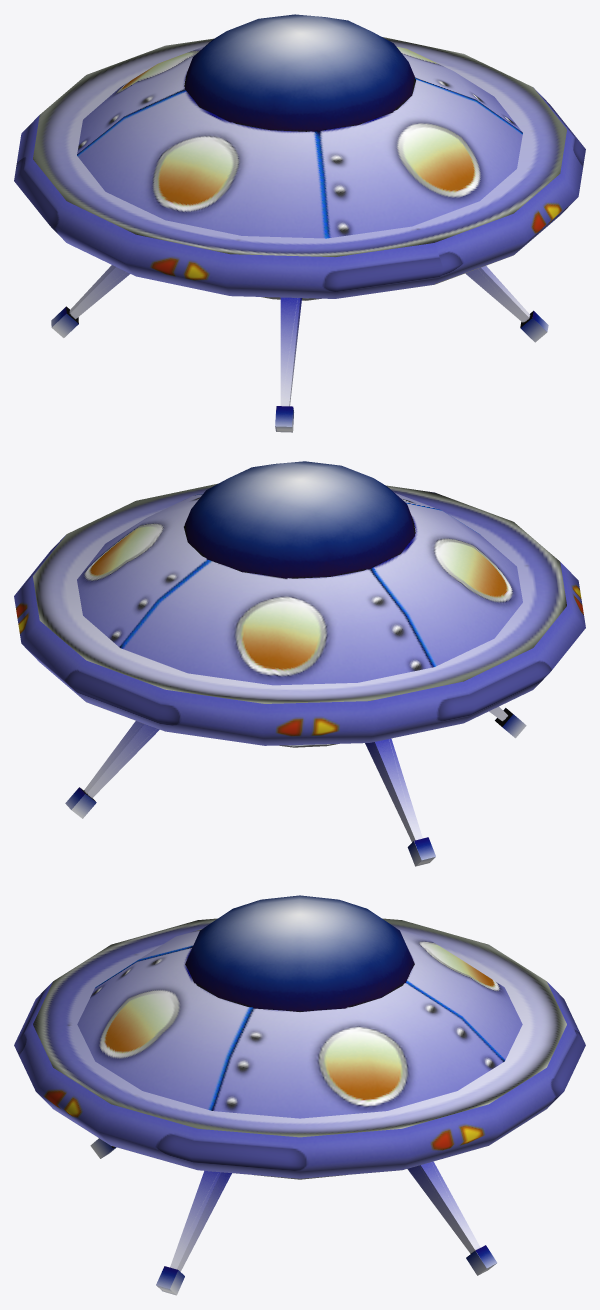
Rendered from ufo.fbx.
The picture shows the model from 3 angles, top to bottom: view 1: azimuth 30°, elevation 25°; view 2: azimuth 150°, elevation 25°; view 3: azimuth 270°, elevation 25°; orthographic projection.
Parts seen in each view (by area): view 1: Cube; view 2: Cube; view 3: Cube.
Part boxes in pixels (x1,y1,x2,y2): Cube: (14, 14, 585, 432); Cube: (14, 461, 585, 866); Cube: (14, 895, 585, 1295).
Bounding box in the file's own units: 212 × 122 × 212.
1 material, 1 textured.
